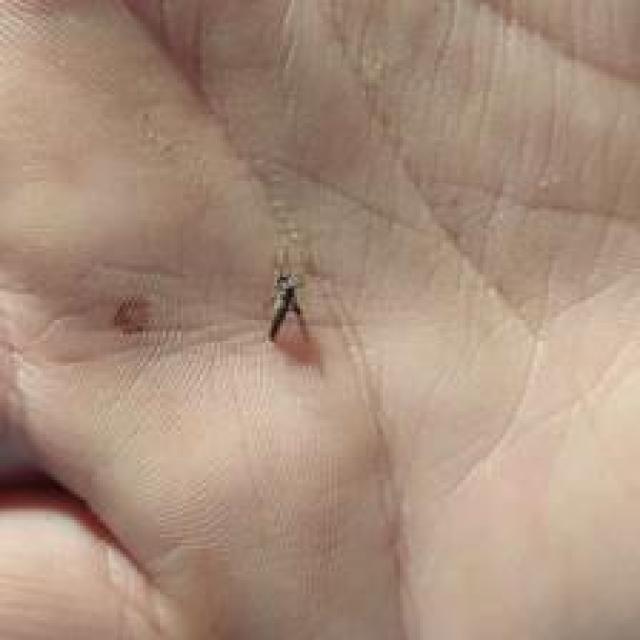Aedes albopictus: (266, 268, 308, 343)
